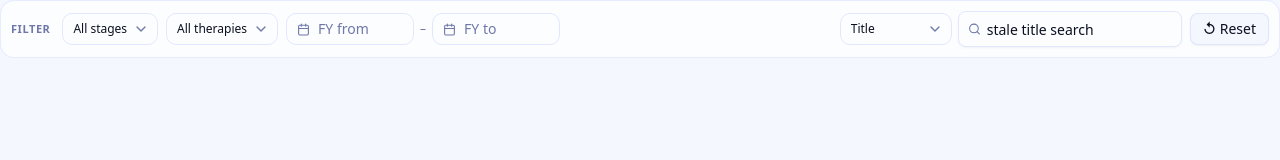
Test: CrmFilterBar — combined search field picker › switching the field dropdown to Code re-scopes the search box and clears both underlying filters
The width and height of the screenshot is (1280, 160).
Click the dropdown named "search by field" at (896, 29), box 840,13 -> 952,45
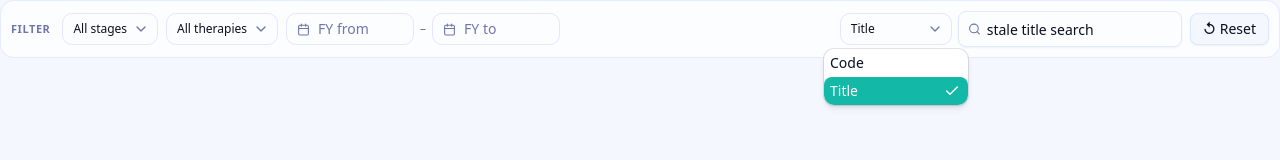
Click the option "Code" at (847, 62), box 830,53 -> 864,72
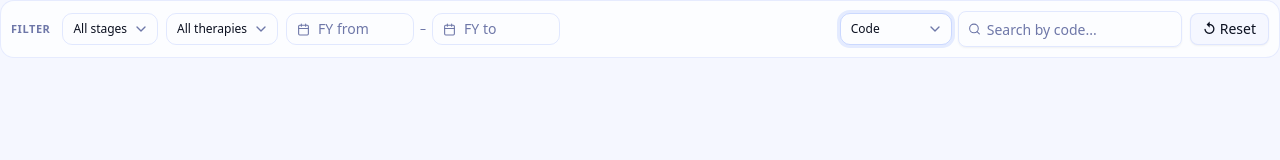
Expected: the field with placeholder "Search by code..." is shown, 958,11 -> 1182,47
